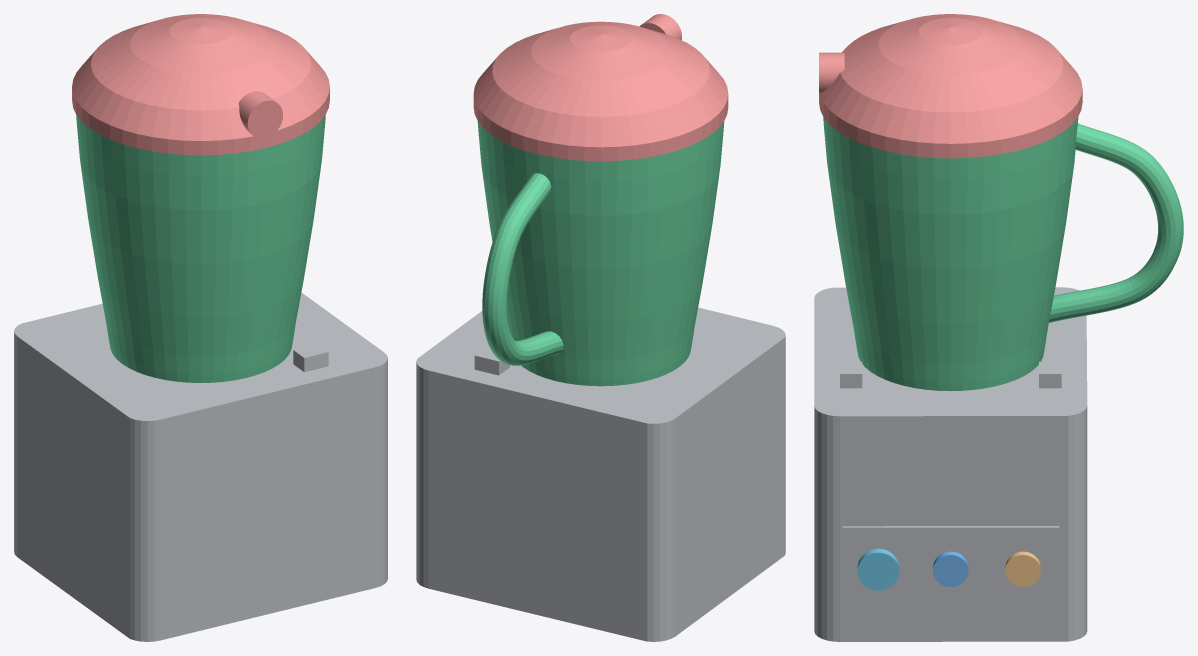
The model's file is parts.glb.
3 views of the same model, side by side, from view 1: azimuth 30°, elevation 25°; view 2: azimuth 150°, elevation 25°; view 3: azimuth 270°, elevation 25° (orthographic). The views are drawn at different scales.
Visible parts, largest first — view 1: visual_0_0, visual_3_0, visual_5_0; view 2: visual_0_0, visual_3_0, visual_5_0; view 3: visual_0_0, visual_3_0, visual_5_0, visual_6_0, visual_1_0, visual_2_0.
Part boxes in pixels (x1=…): visual_0_0: x1=14, y1=292, x2=387, y2=641; visual_3_0: x1=76, y1=114, x2=325, y2=382; visual_5_0: x1=72, y1=14, x2=329, y2=155; visual_0_0: x1=416, y1=307, x2=785, y2=641; visual_3_0: x1=477, y1=121, x2=724, y2=386; visual_5_0: x1=473, y1=14, x2=728, y2=161; visual_0_0: x1=814, y1=287, x2=1087, y2=641; visual_3_0: x1=823, y1=117, x2=1183, y2=391; visual_5_0: x1=819, y1=14, x2=1082, y2=158; visual_6_0: x1=857, y1=548, x2=899, y2=590; visual_1_0: x1=933, y1=551, x2=968, y2=586; visual_2_0: x1=1005, y1=551, x2=1040, y2=586.
Bounding box in the file's own units: 0.198 × 0.378 × 0.23.
